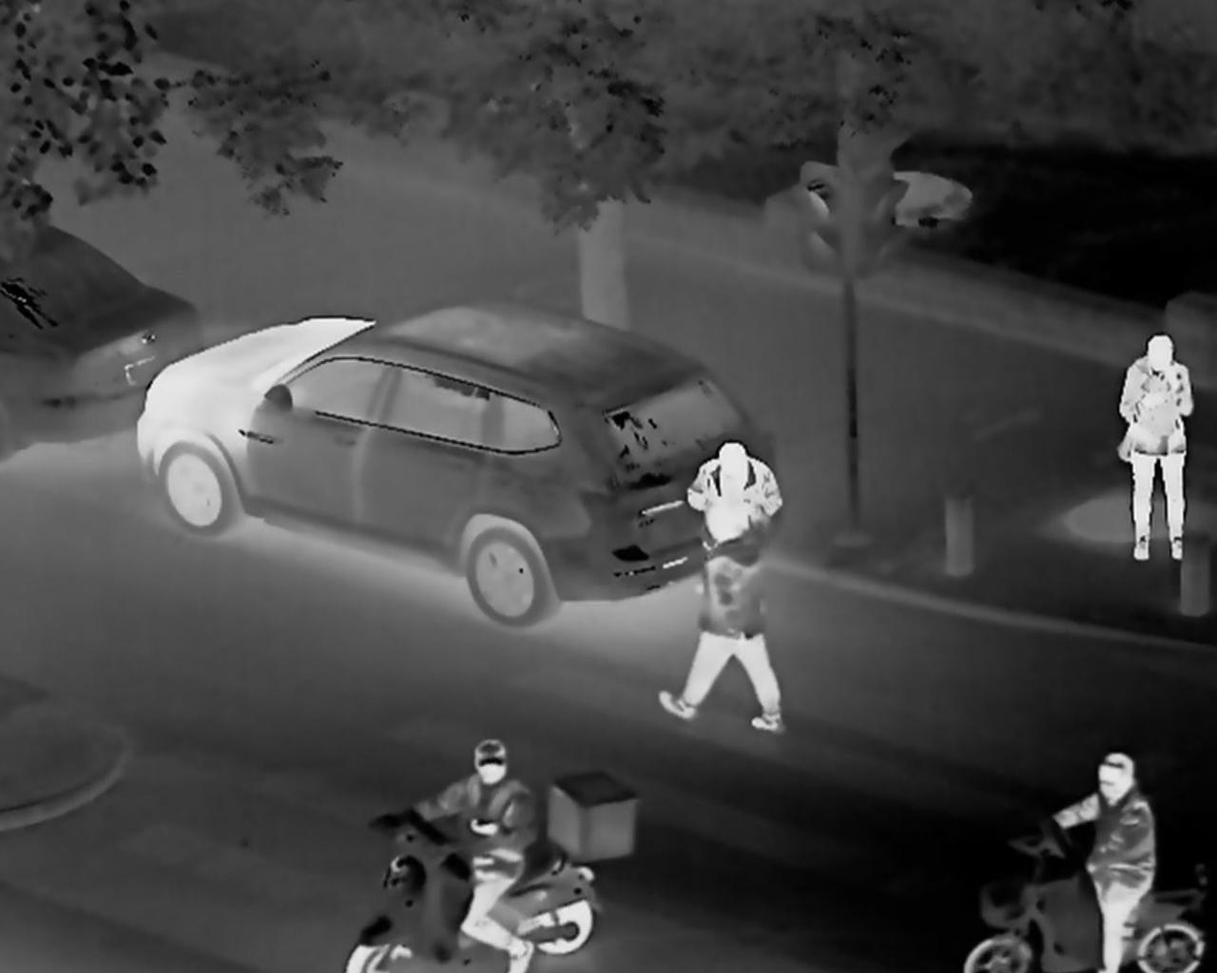person: (438, 742, 565, 943), (704, 521, 785, 742), (1058, 762, 1150, 952), (1112, 335, 1199, 535), (666, 447, 754, 519)
